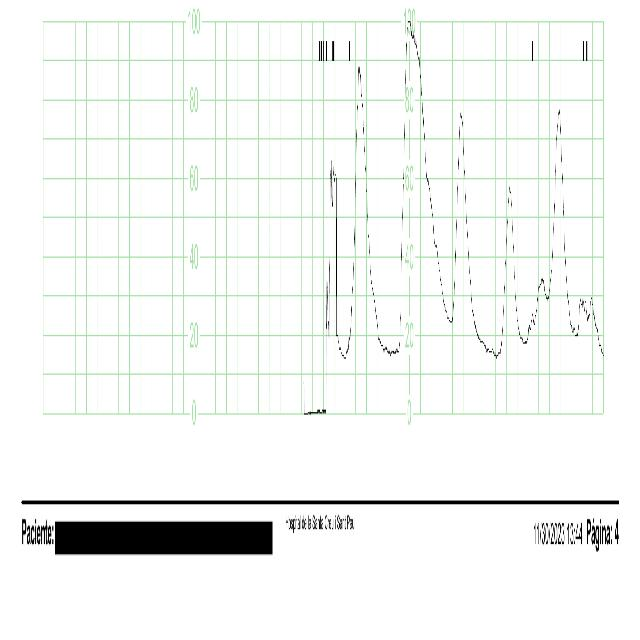contraction: (399, 25, 438, 351), (349, 62, 376, 342), (546, 110, 574, 332), (453, 102, 474, 328), (322, 158, 339, 413), (500, 180, 520, 355)
